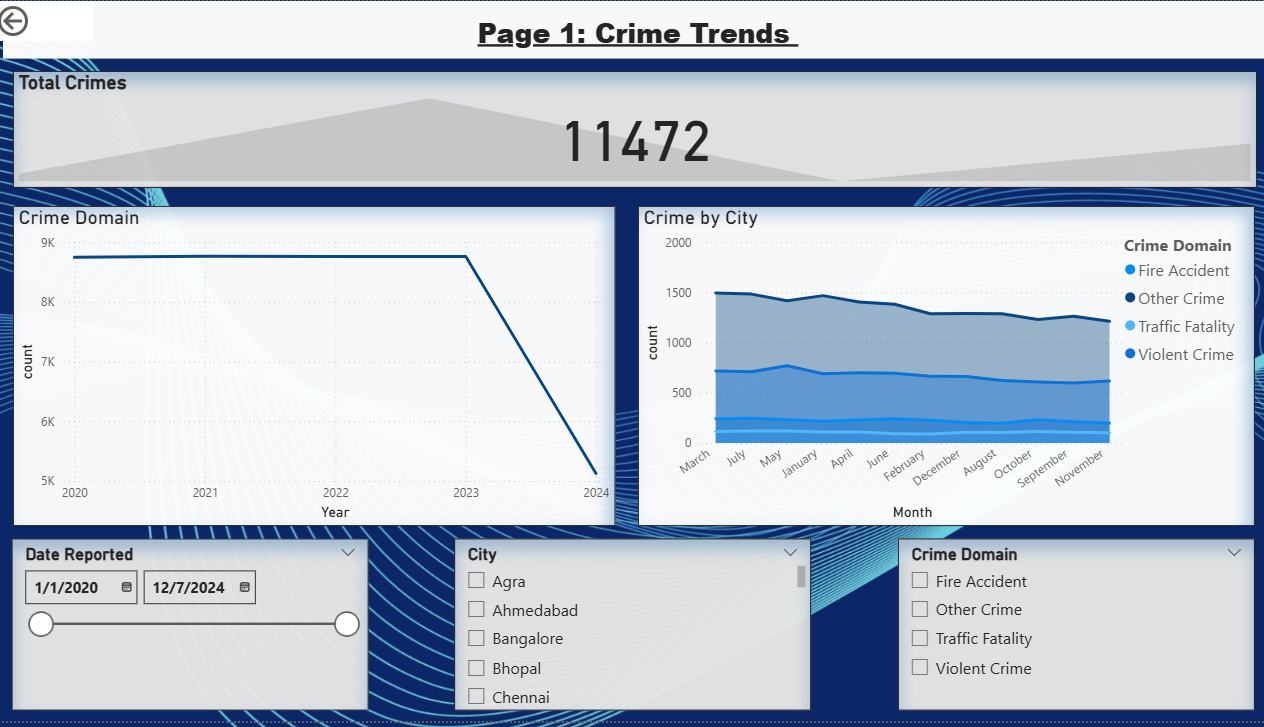

The page's visual inventory and layout, read from the dashboard file:
{"tool":"powerbi","page":{"name":"Duplicate of Page 1","canvas":[1280,720],"ordinal":1},"visuals":[{"type":"textbox","box":[9.8,0,1269.9,57.7],"z":0},{"type":"kpi","title":"Total Crimes","fields":{"Indicator":["cleaned_indian_crimes.count"],"TrendLine":["cleaned_indian_crimes.Crime Domain"]},"box":[19.6,69.9,1244.2,116.6],"z":1000},{"type":"lineChart","title":"Crime Domain","fields":{"Category":["cleaned_indian_crimes.Date Reported.Variation.Date Hierarchy.Year","cleaned_indian_crimes.Date Reported.Variation.Date Hierarchy.Quarter","cleaned_indian_crimes.Date Reported.Variation.Date Hierarchy.Month","cleaned_indian_crimes.Date Reported.Variation.Date Hierarchy.Day"],"Y":["cleaned_indian_crimes.count"]},"box":[19.6,204.9,602.5,320.2],"z":2000},{"type":"areaChart","title":"Crime by City ","fields":{"Category":["cleaned_indian_crimes.Date Reported.Variation.Date Hierarchy.Month"],"Y":["cleaned_indian_crimes.count"],"Series":["cleaned_indian_crimes.Crime Domain"]},"box":[645.4,204.9,617.2,320.2],"z":3000},{"type":"actionButton","box":[0,0,100,40],"z":4000},{"type":"slicer","title":"Total Crimes","fields":{"Values":["cleaned_indian_crimes.Date Reported"]},"box":[18.4,537.4,357.1,171.8],"z":5000},{"type":"slicer","title":"Total Crimes","fields":{"Values":["cleaned_indian_crimes.City"]},"box":[461.4,537.4,357.1,171.8],"z":6000},{"type":"slicer","title":"Total Crimes","fields":{"Values":["cleaned_indian_crimes.Crime Domain"]},"box":[905.5,537.4,357.1,171.8],"z":7000}]}

Visuals, with their boxes on the page's 1280x720 design canvas (x1, y1, x2, y2). These are canvas units, not pixel positions in the 1264x727 screenshot, which may show the page scaled, cropped or inside an application window:
textbox: bbox(10, 0, 1280, 58)
"Total Crimes" kpi: bbox(20, 70, 1264, 186)
"Crime Domain" lineChart: bbox(20, 205, 622, 525)
"Crime by City " areaChart: bbox(645, 205, 1263, 525)
actionButton: bbox(0, 0, 100, 40)
"Total Crimes" slicer: bbox(18, 537, 376, 709)
"Total Crimes" slicer: bbox(461, 537, 818, 709)
"Total Crimes" slicer: bbox(906, 537, 1263, 709)
